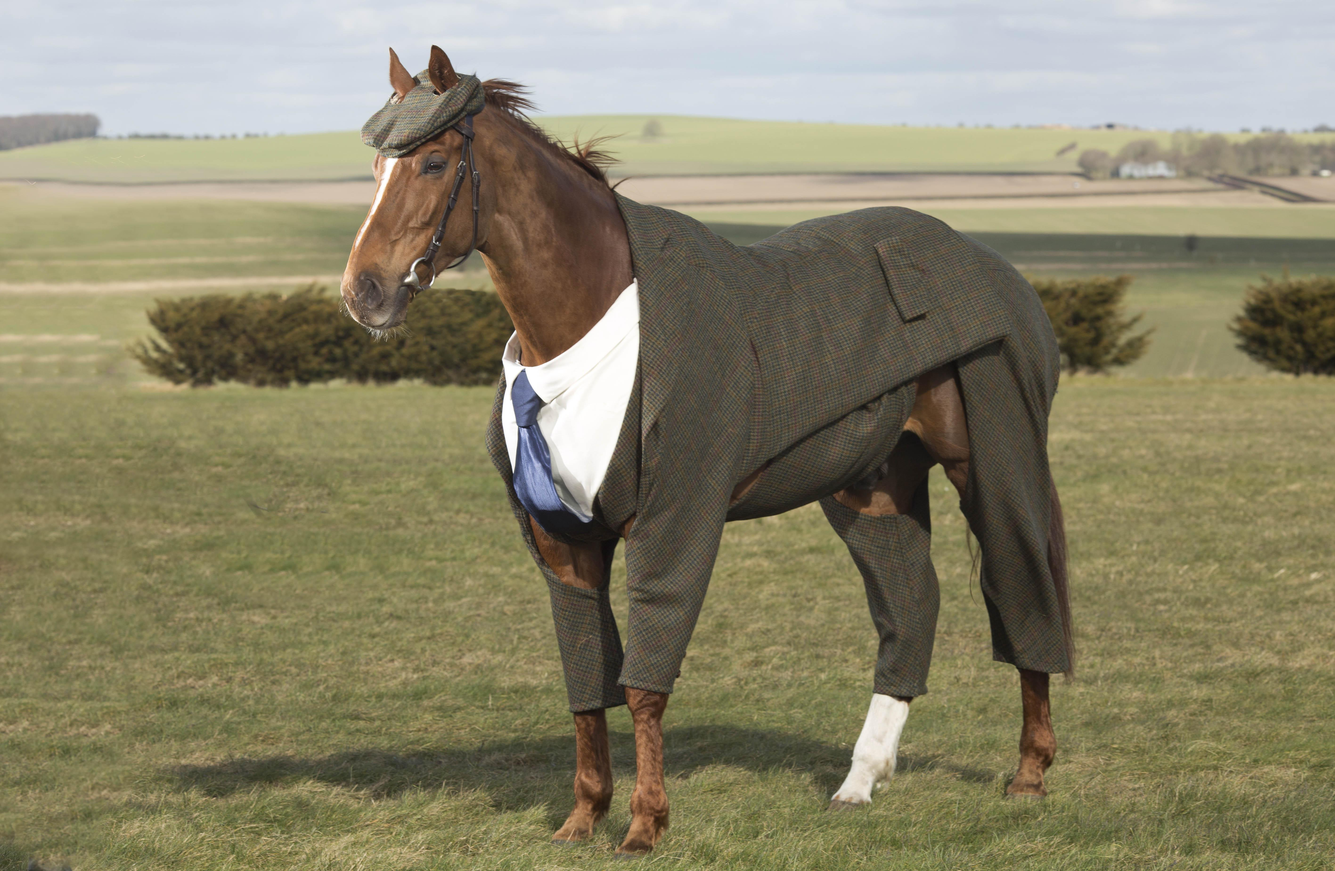horse: (330, 35, 1081, 859)
